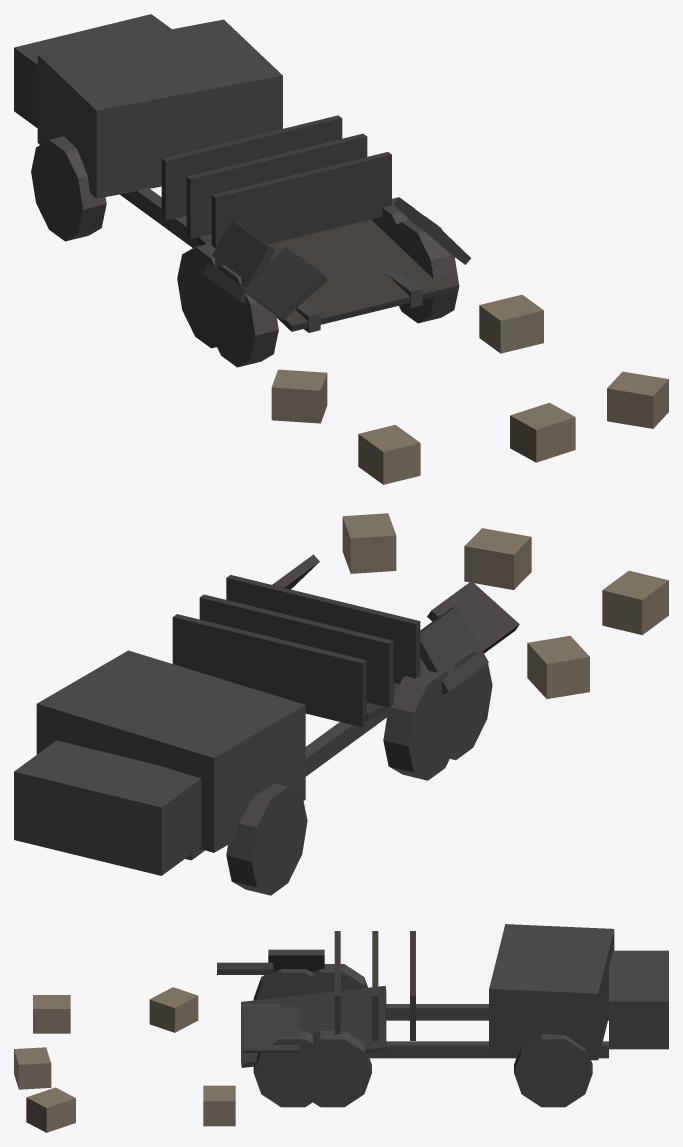
Rendered from truck_he_hit.glb.
3 views of the same model, one above another, from view 1: azimuth 30°, elevation 25°; view 2: azimuth 150°, elevation 25°; view 3: azimuth 270°, elevation 25° (orthographic). The views are drawn at different scales.
Visible parts, largest first — view 1: truck_he_hit; view 2: truck_he_hit; view 3: truck_he_hit.
Boxes of the visible parts, <box> form: truck_he_hit: <box>14,14,668,484</box>; truck_he_hit: <box>14,513,668,895</box>; truck_he_hit: <box>14,924,668,1132</box>.
Bounding box in the file's own units: 3.2 × 1.43 × 7.65.
